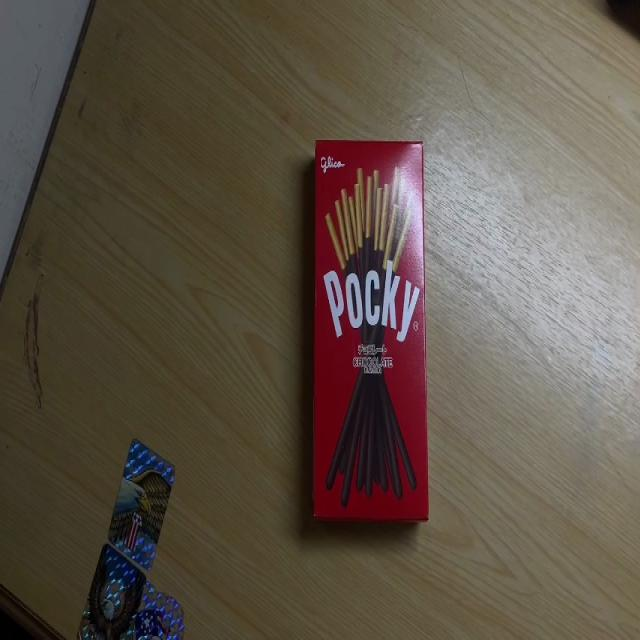Pocky: (313, 136, 429, 520)
